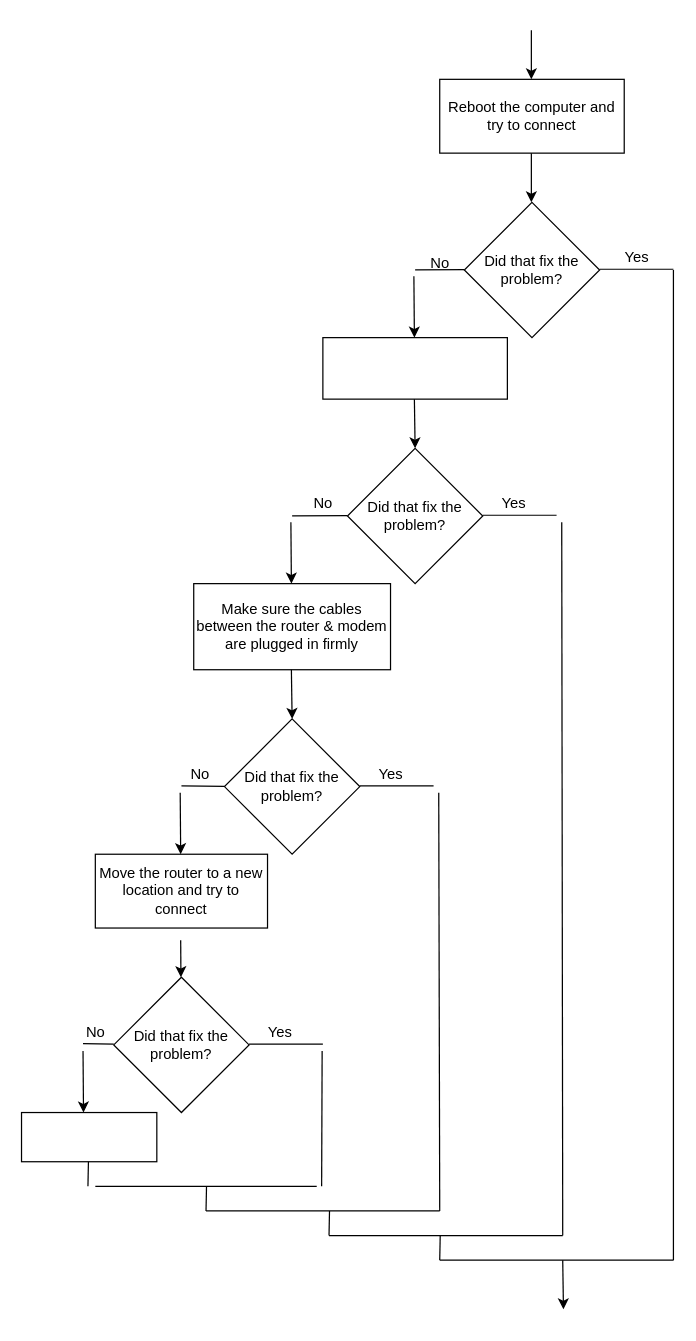
This 696x1341 diagram has some shape labels left out. The shapes that lost their labels are listed below. From the top down, each one's box as (x1, y1, x2, y2) in pixels, then its label:
(322, 336, 507, 399): Reboot the router and try to connect
(20, 1111, 157, 1162): Get a new router
